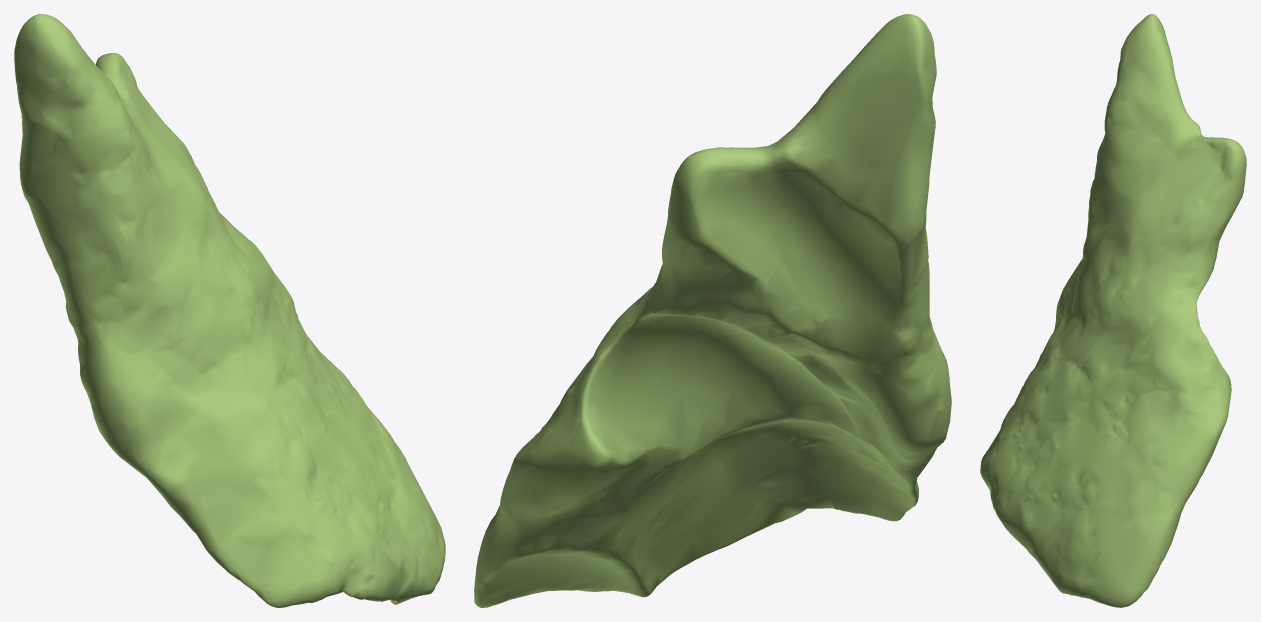
The model's file is left-lobe-of-thymus.glb.
The picture shows the model from 3 angles, left to right: view 1: azimuth 30°, elevation 25°; view 2: azimuth 150°, elevation 25°; view 3: azimuth 270°, elevation 25°; orthographic projection. The views are drawn at different scales.
Parts seen in each view (by area): view 1: Left lobe of thymus; view 2: Left lobe of thymus; view 3: Left lobe of thymus.
Boxes of the visible parts, x1,y1,x2,y2 form: Left lobe of thymus: (14,14,445,607); Left lobe of thymus: (474,14,951,607); Left lobe of thymus: (980,14,1246,607).
Bounding box in the file's own units: 0.0379 × 0.0554 × 0.0292.
